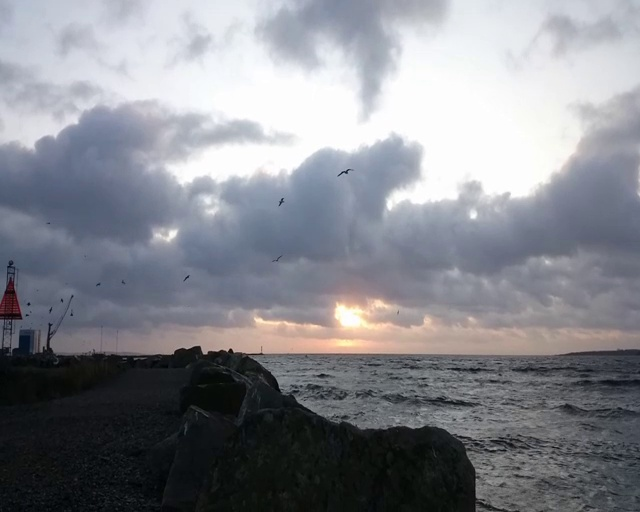BIRD: (338, 168, 354, 176)
